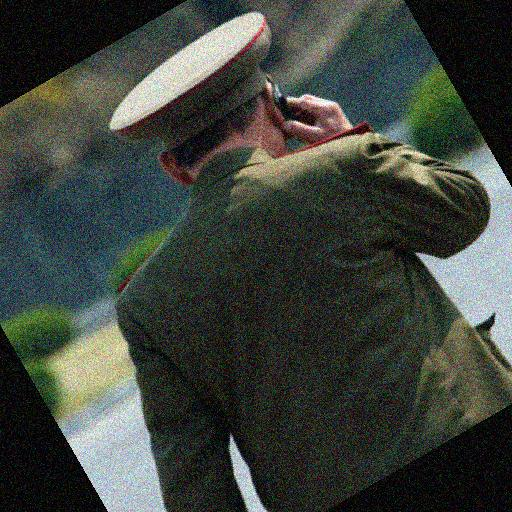north army: (80, 10, 507, 512)
